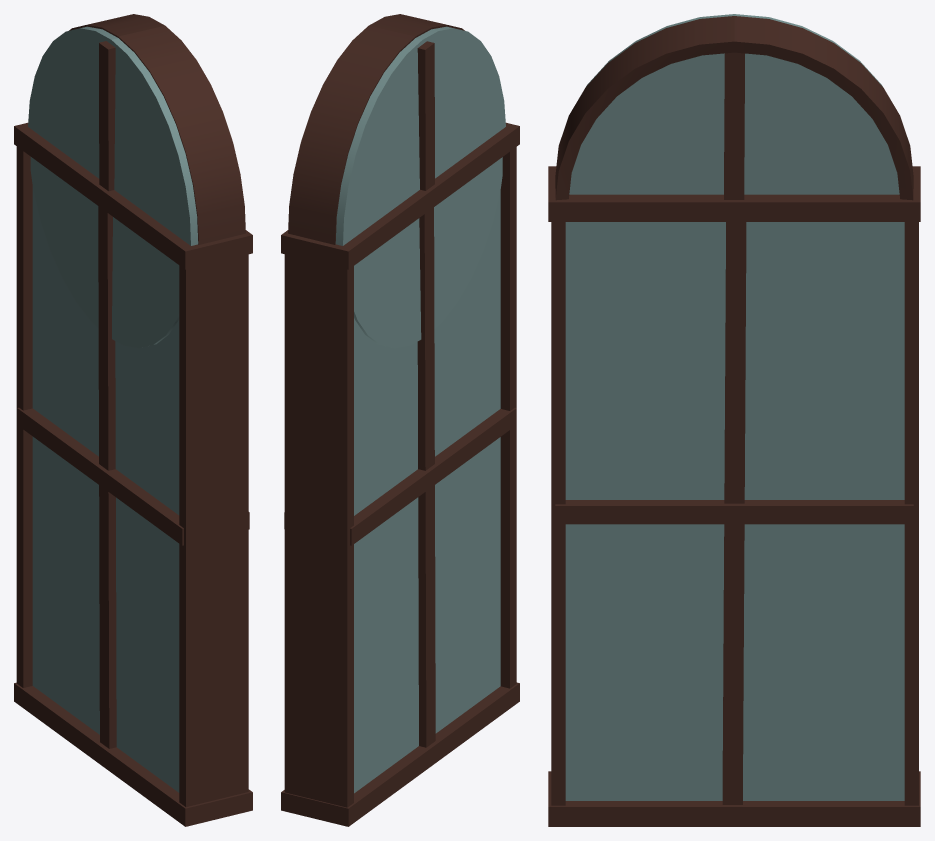
The model's file is Orta Pencere 1.fbx.
3 views of the same model, side by side, from view 1: azimuth 30°, elevation 25°; view 2: azimuth 150°, elevation 25°; view 3: azimuth 270°, elevation 25° (orthographic). The views are drawn at different scales.
Visible parts, largest first — view 1: Cube.002; view 2: Cube.002; view 3: Cube.002.
Part boxes in pixels (x1=…): Cube.002: x1=14, y1=14, x2=252, y2=826; Cube.002: x1=281, y1=14, x2=519, y2=826; Cube.002: x1=548, y1=14, x2=920, y2=826.
Bounding box in the file's own units: 85.35 × 875 × 376.
